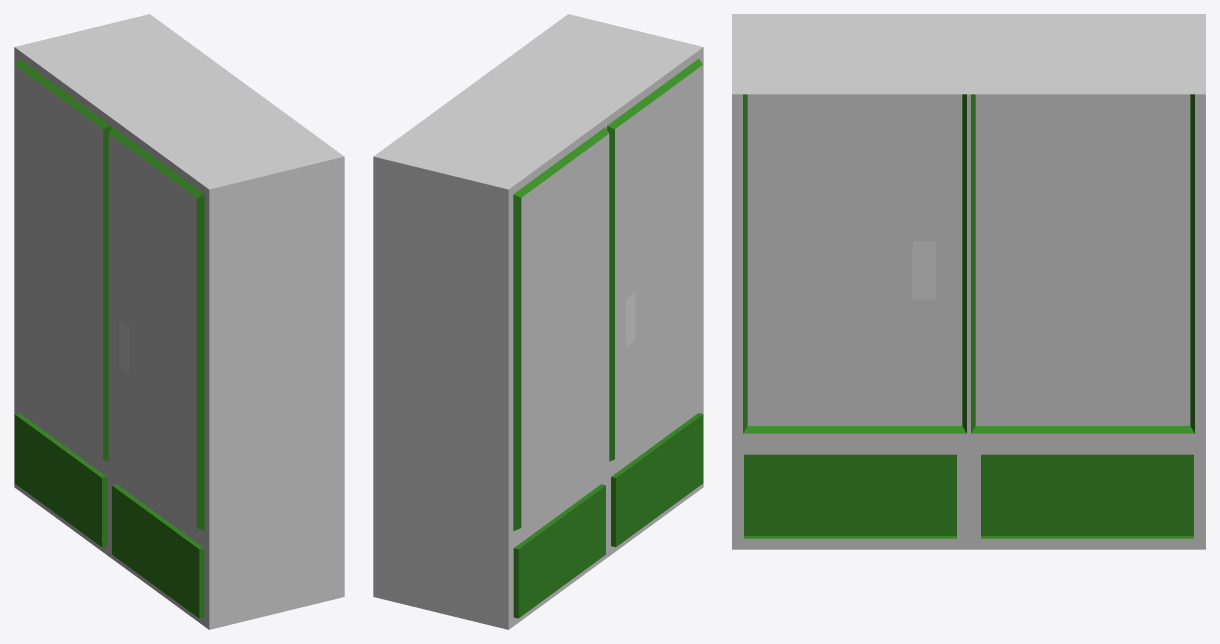
Rendered from Surgical_Wardrobe.fbx.
3 renders of one model, left to right at view 1: azimuth 30°, elevation 25°; view 2: azimuth 150°, elevation 25°; view 3: azimuth 270°, elevation 25°, orthographic. The views are drawn at different scales.
Parts seen in each view (by area): view 1: Surgical_Wardrobe; view 2: Surgical_Wardrobe; view 3: Surgical_Wardrobe.
Part boxes in pixels (left/top/right/bottom): Surgical_Wardrobe: left=14, top=14, right=344, bottom=629; Surgical_Wardrobe: left=373, top=14, right=703, bottom=629; Surgical_Wardrobe: left=732, top=14, right=1205, bottom=549.
Bounding box in the file's own units: 1.34 × 3.19 × 3.98.
